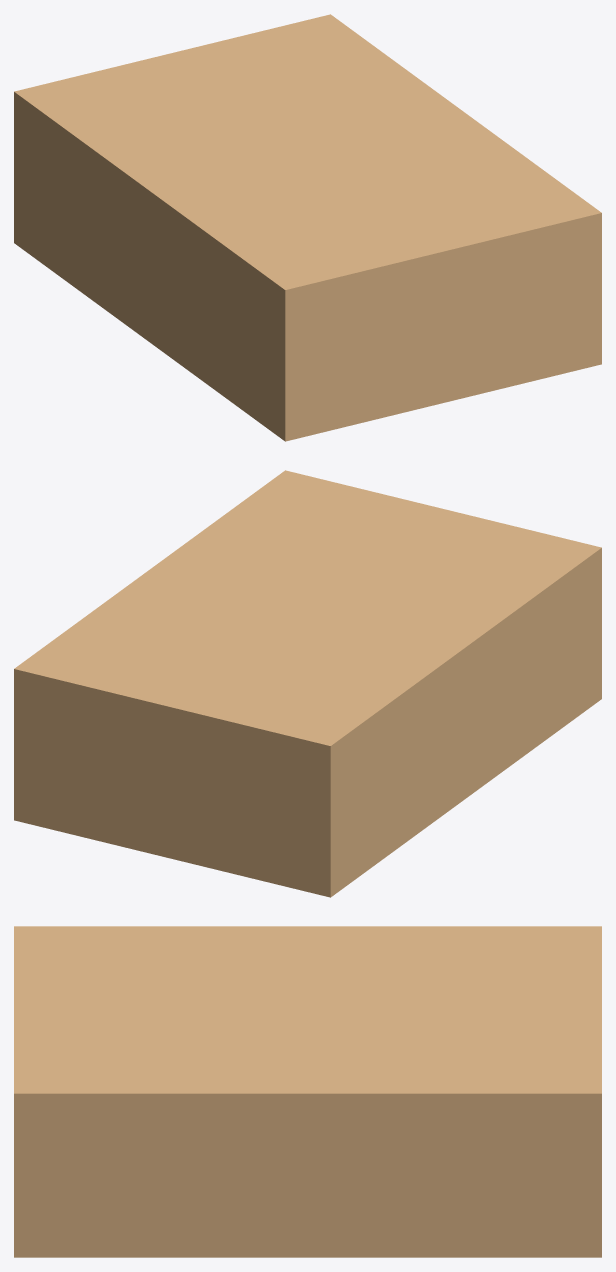
Rendered from shelves.glb.
The picture shows the model from 3 angles, top to bottom: view 1: azimuth 30°, elevation 25°; view 2: azimuth 150°, elevation 25°; view 3: azimuth 270°, elevation 25°; orthographic projection. The views are drawn at different scales.
Parts seen in each view (by area): view 1: Body.001; view 2: Body.001; view 3: Body.001.
Boxes of the visible parts, left/top/right/bottom form: Body.001: left=14, top=14, right=601, bottom=441; Body.001: left=14, top=470, right=601, bottom=897; Body.001: left=14, top=926, right=601, bottom=1257.
Size of the model in its own units: 0.744 by 0.34 by 1.1.
